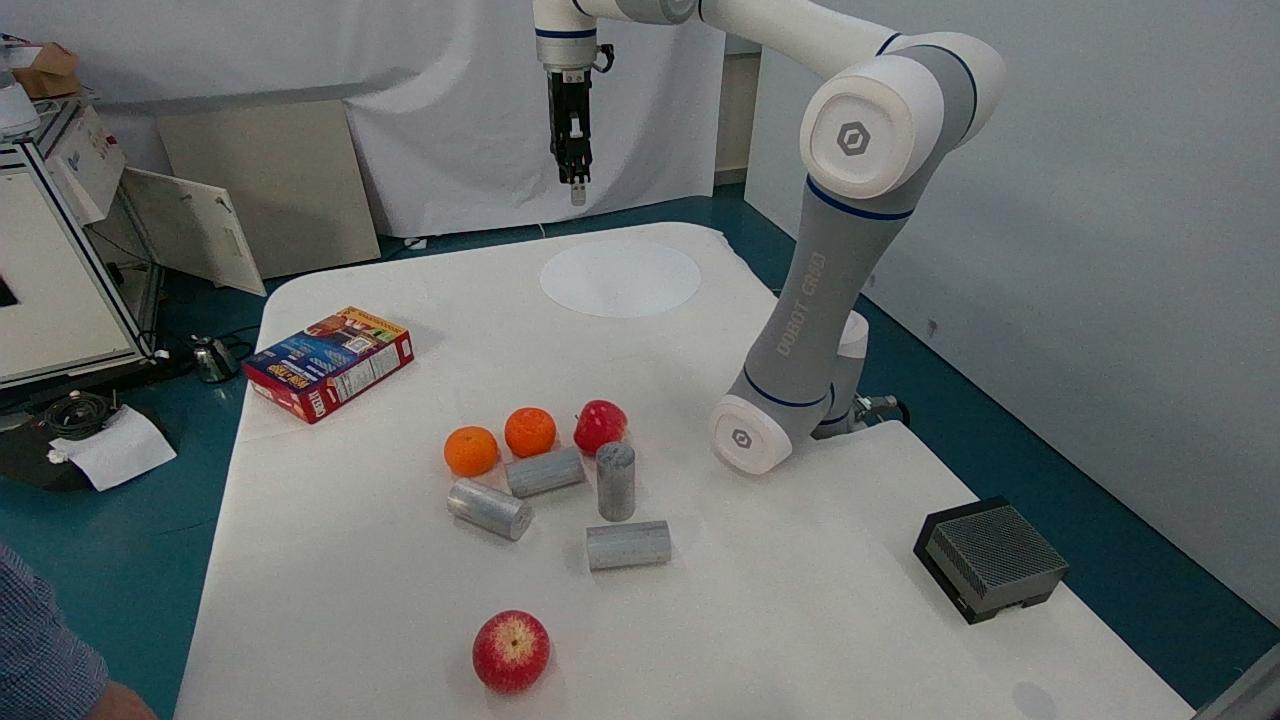apple: (467, 598, 560, 698), (560, 387, 640, 462)
metal rod: (441, 469, 534, 561), (574, 505, 684, 578), (497, 443, 602, 501), (592, 436, 646, 521)
orange: (433, 415, 505, 480), (497, 399, 565, 460)
